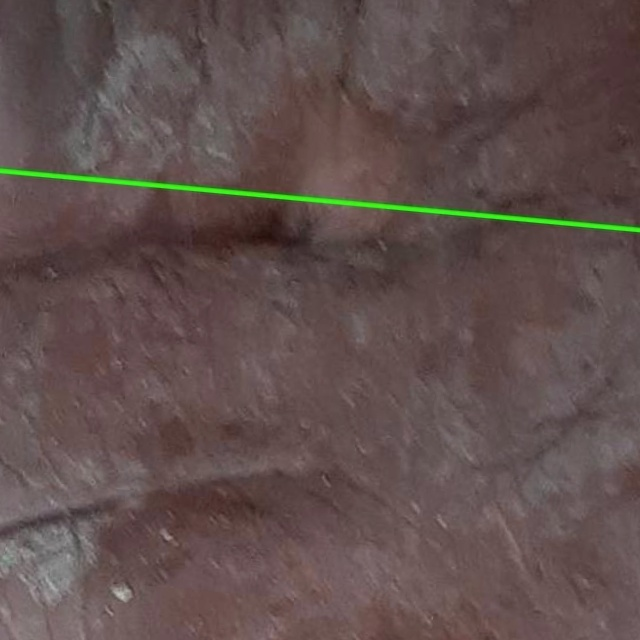Eczema: (0, 171, 639, 639)
